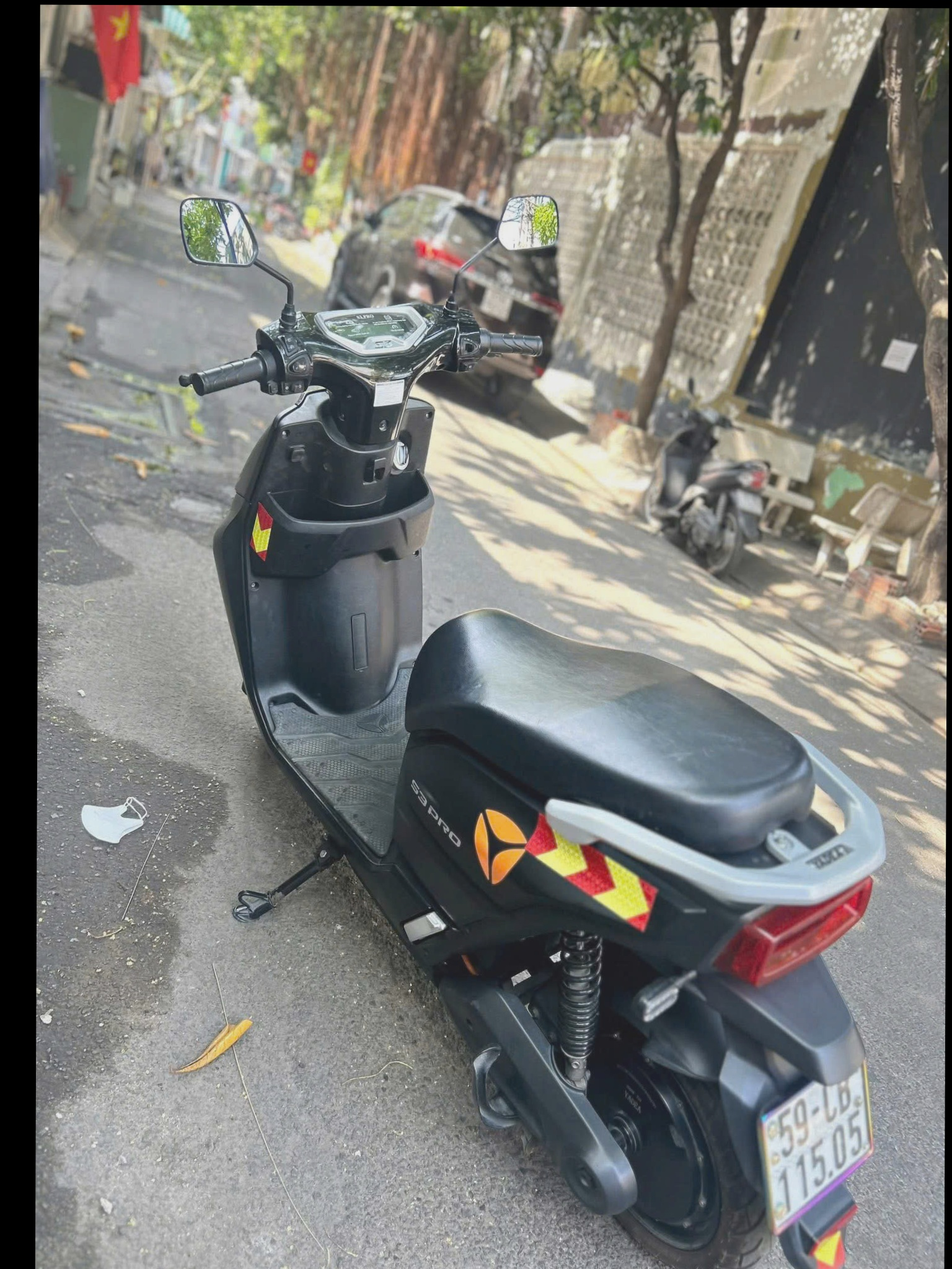Bien-so: (744, 1021, 880, 1198)
